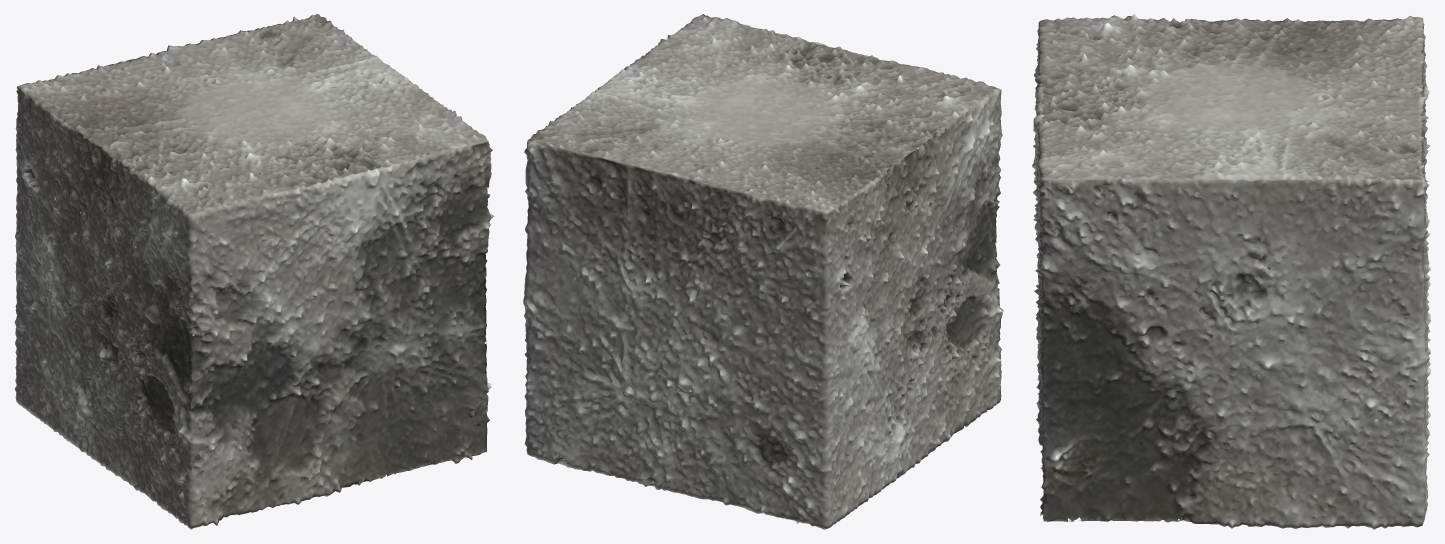
Rendered from lunaFinal.glb.
3 views of the same model, side by side, from view 1: azimuth 30°, elevation 25°; view 2: azimuth 150°, elevation 25°; view 3: azimuth 270°, elevation 25° (orthographic). The views are drawn at different scales.
Visible parts, largest first — view 1: Cube; view 2: Cube; view 3: Cube.
Part boxes in pixels (x1=…): Cube: x1=14, y1=14, x2=494, y2=529; Cube: x1=523, y1=14, x2=1003, y2=529; Cube: x1=1032, y1=14, x2=1430, y2=529.
Bounding box in the file's own units: 2.11 × 2.11 × 2.11.
Materials: 1 (1 with a texture image).
